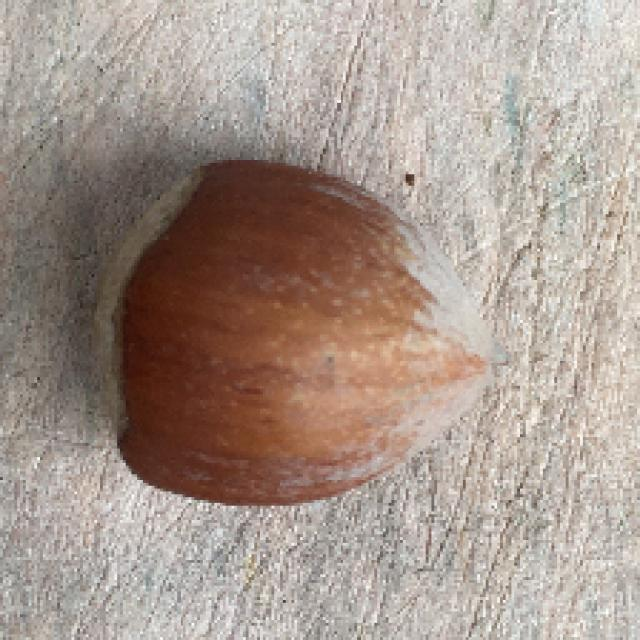qualityHazelnut: (82, 149, 508, 515)
